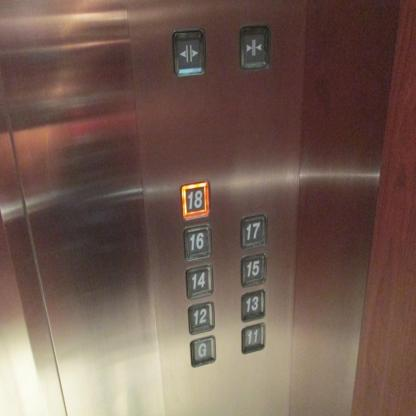11: (240, 321, 265, 355)
12: (186, 298, 215, 334)
13: (240, 288, 266, 322)
14: (184, 262, 213, 300)
15: (240, 252, 266, 288)
16: (182, 223, 212, 261)
17: (239, 214, 266, 250)
18: (180, 180, 210, 219)
G: (188, 334, 216, 367)
close: (237, 23, 270, 70)
open: (170, 28, 204, 77)
